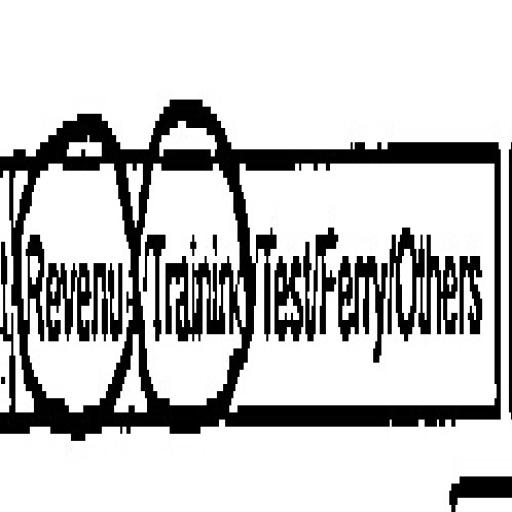check: (10, 60, 140, 508), (143, 46, 252, 493)
